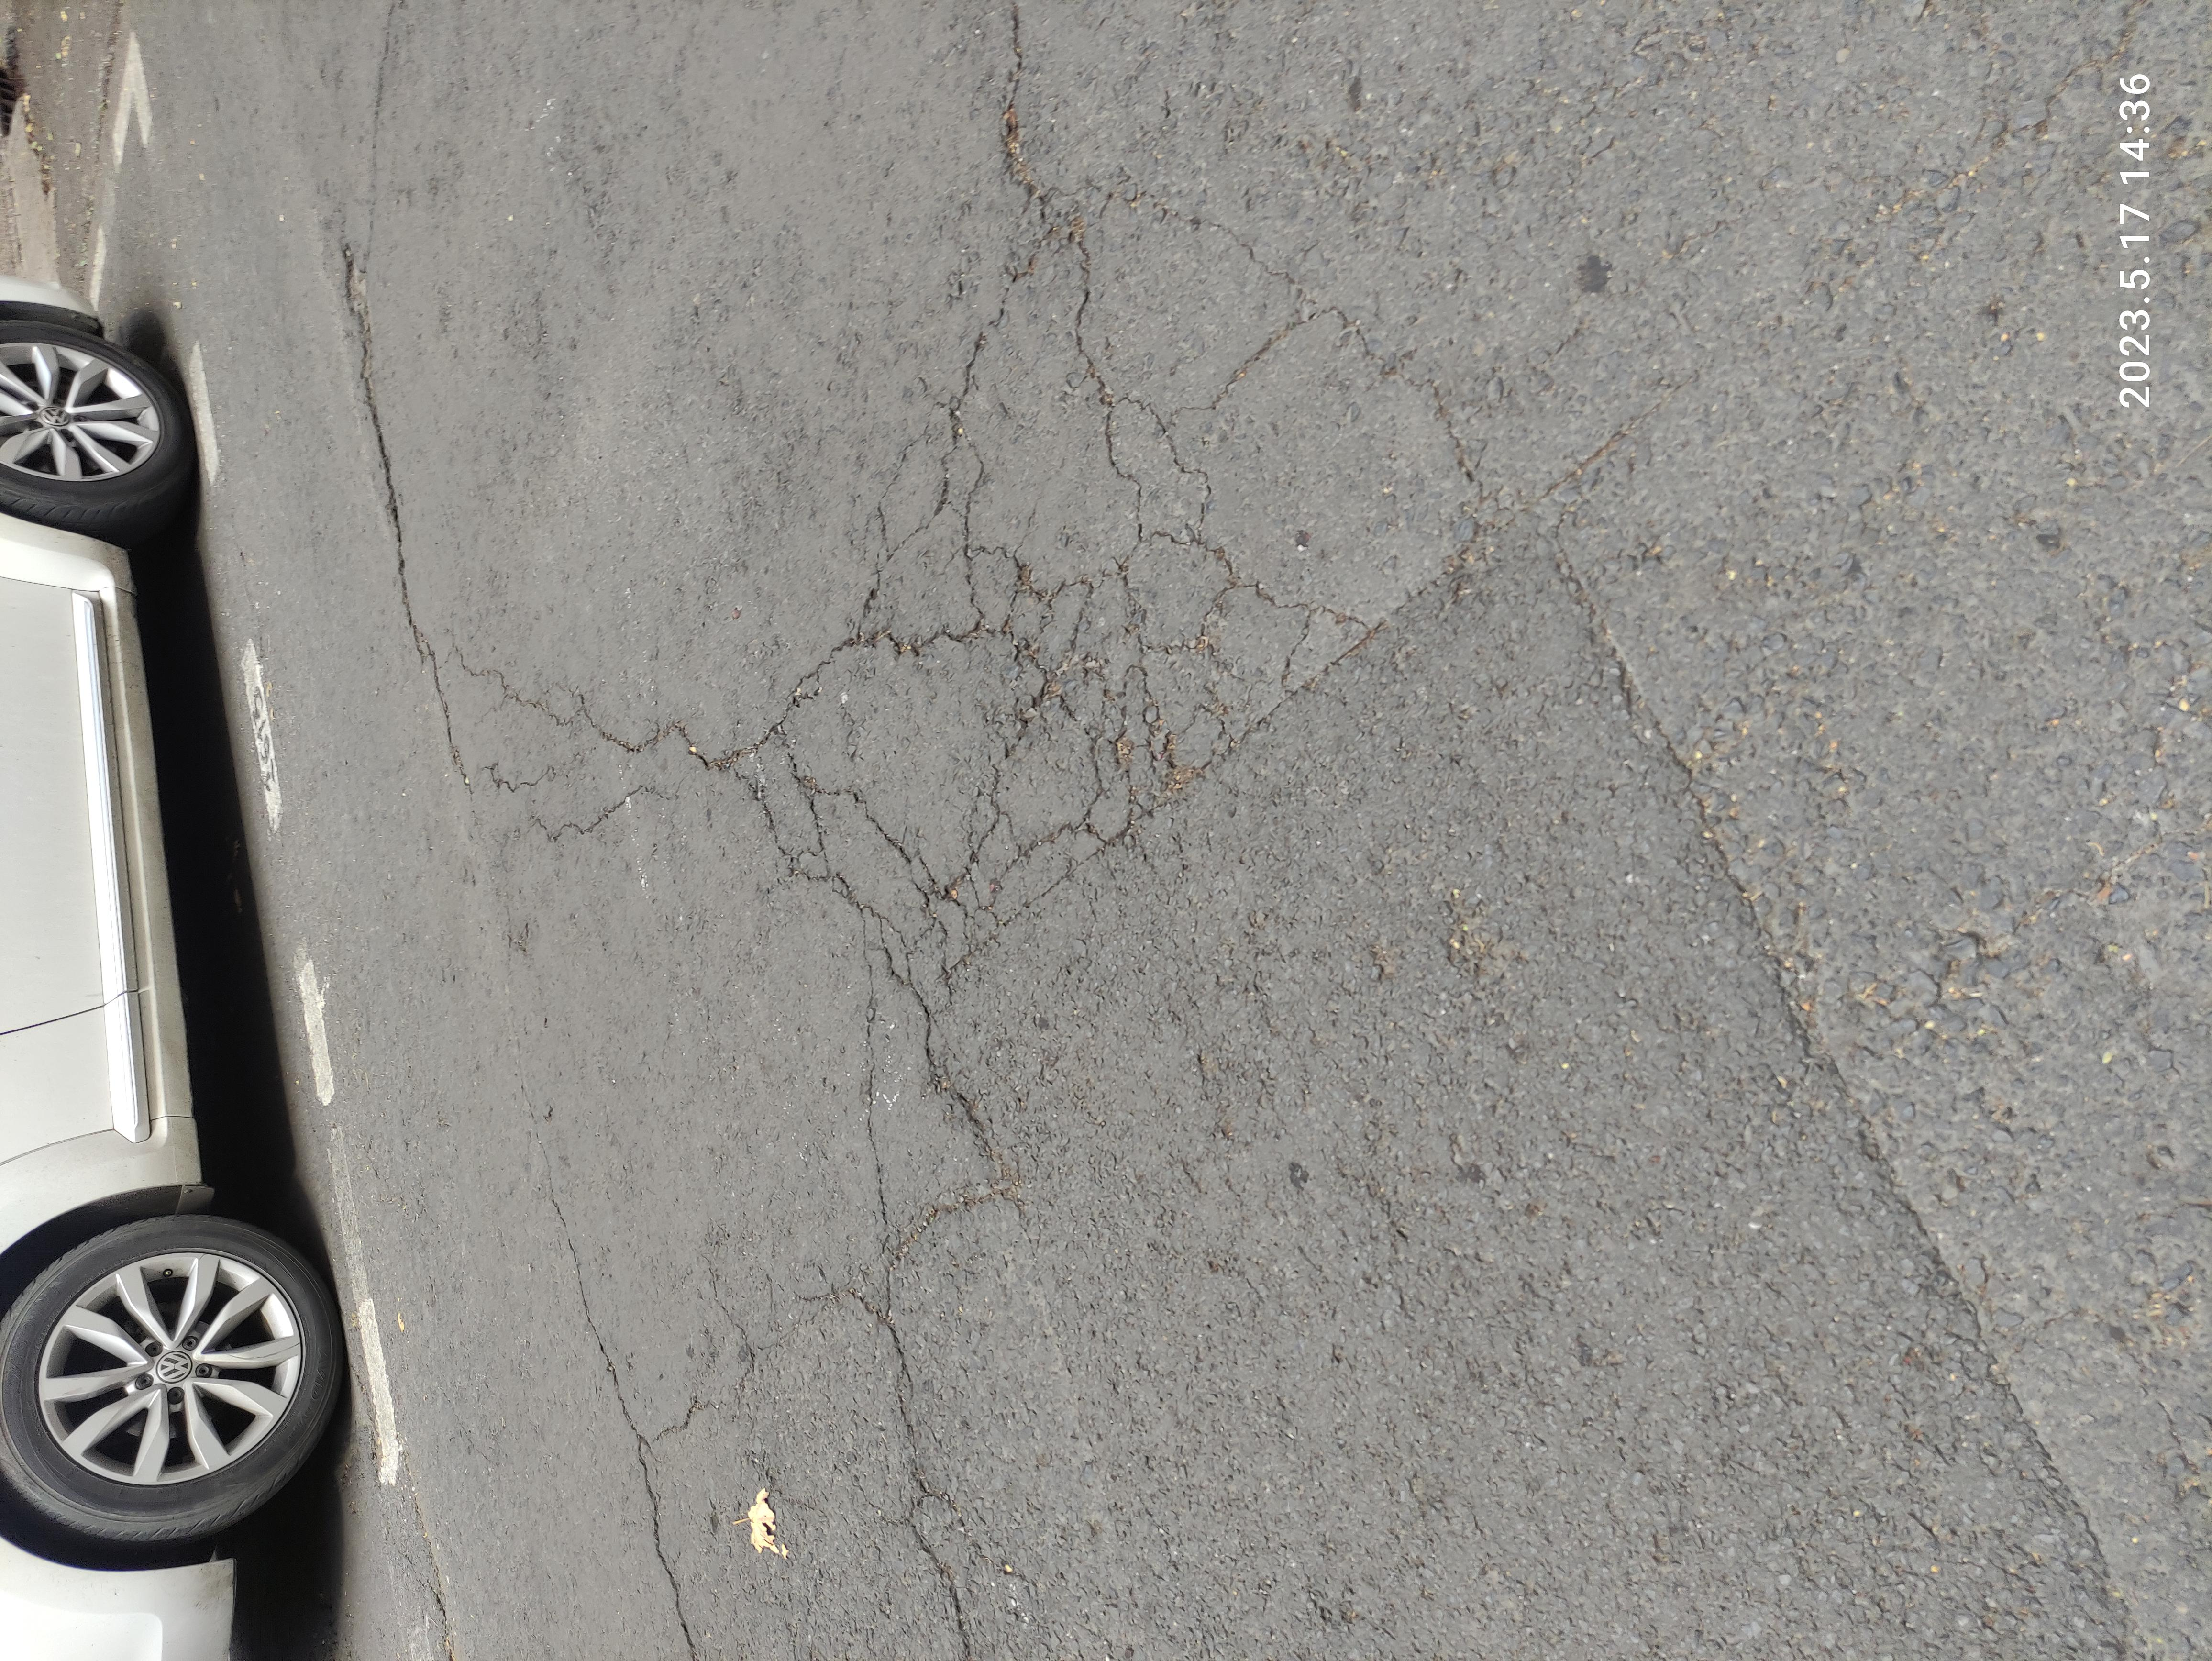alligator-crack: (787, 558, 1950, 979), (1071, 256, 1933, 569), (0, 407, 640, 733)
